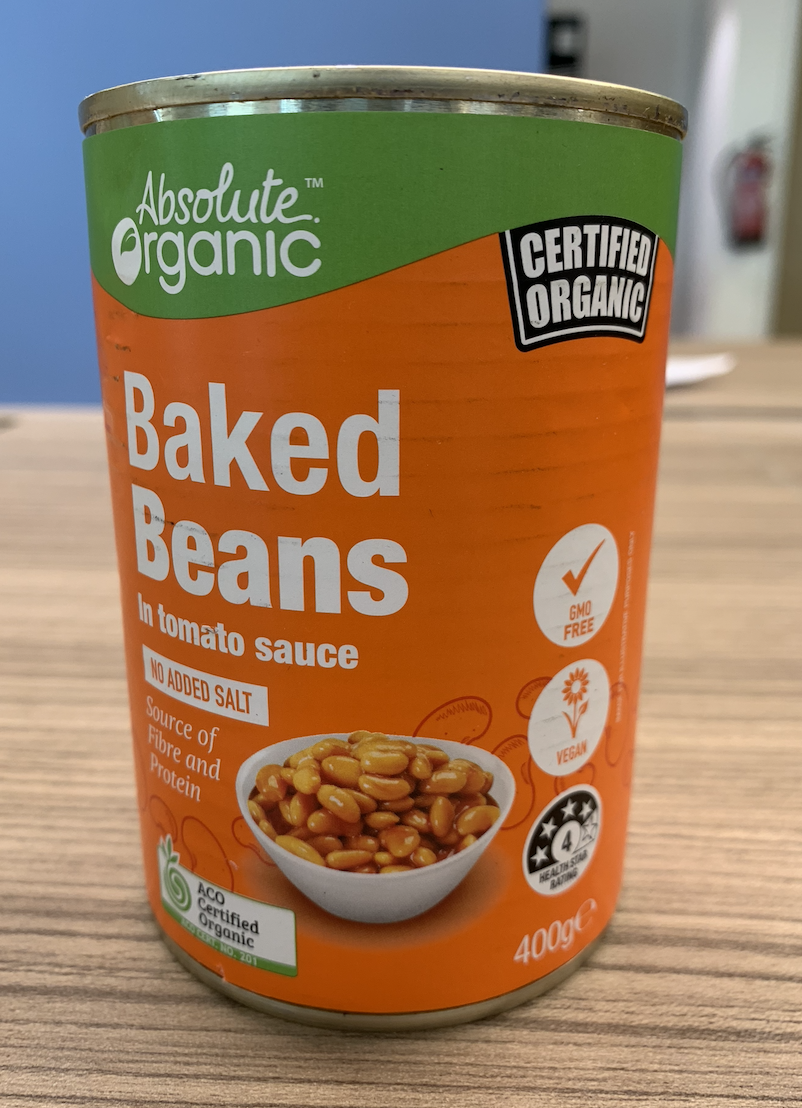Baked beans_400-499g: (117, 135, 622, 978)
